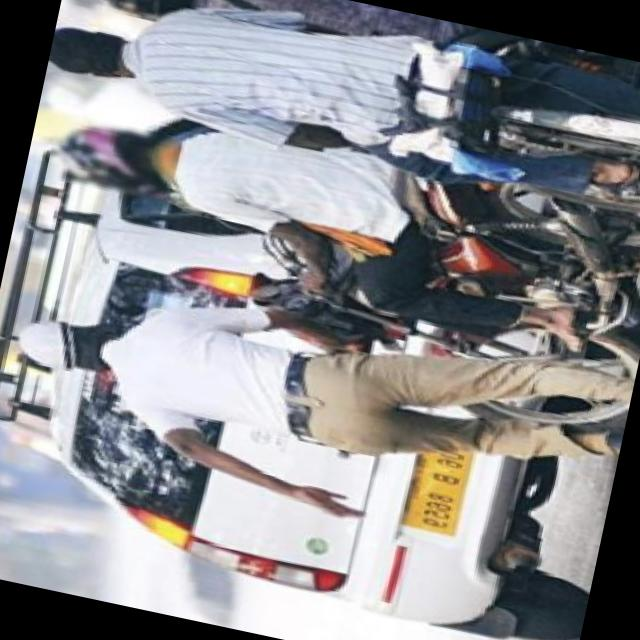With Helmet: (44, 110, 184, 204), (86, 0, 206, 29)
